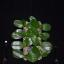leaf: (11, 48, 25, 58), (10, 41, 24, 50), (39, 42, 53, 51), (30, 33, 39, 46), (24, 54, 38, 62), (10, 32, 24, 39), (14, 20, 26, 28), (28, 27, 40, 35), (30, 19, 40, 28), (42, 23, 52, 31), (32, 46, 40, 56), (15, 29, 26, 36), (24, 36, 29, 46), (43, 32, 50, 38), (26, 30, 32, 36), (22, 19, 26, 26), (39, 33, 44, 38), (40, 25, 44, 29)
